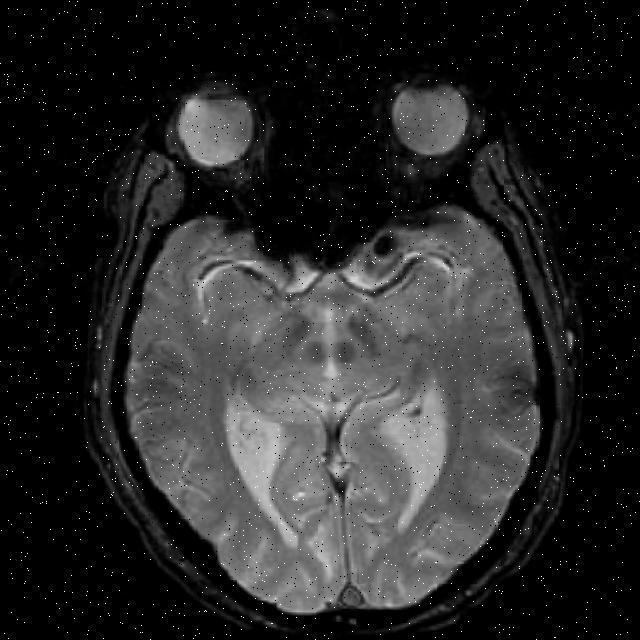EMCI: (486, 366, 546, 429), (370, 223, 409, 279)
